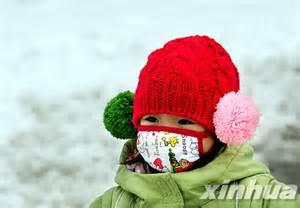OK: (139, 106, 208, 171)
